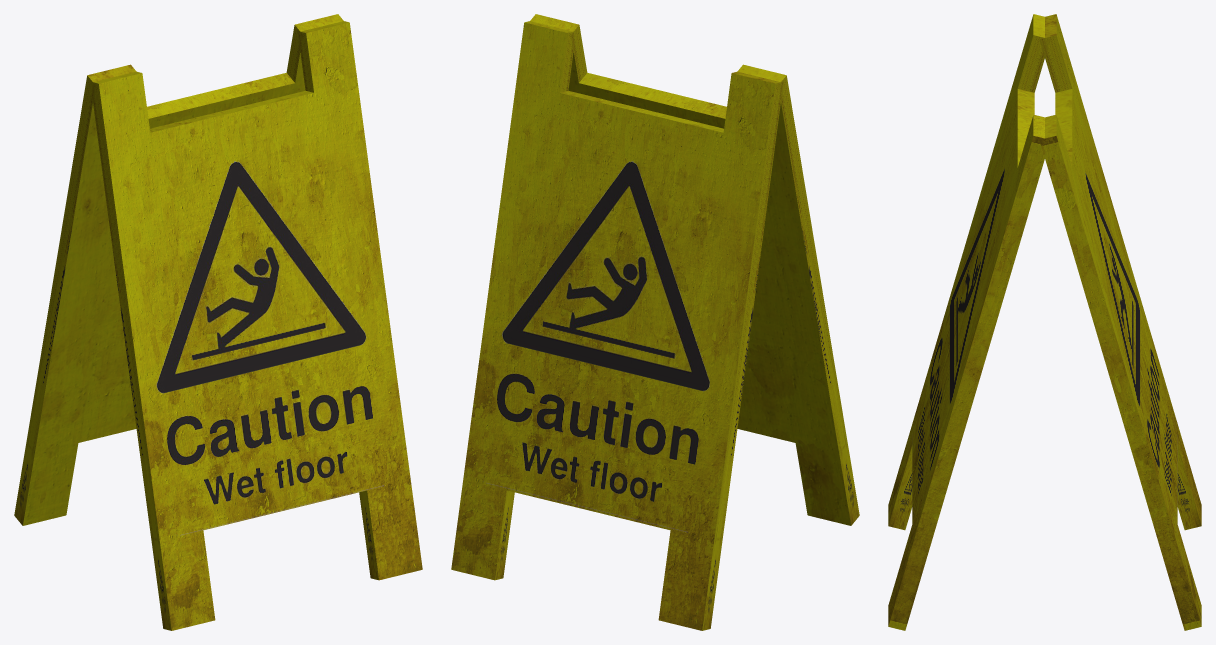
The model's file is Wet Floor Sign.FBX.
3 views of the same model, side by side, from view 1: azimuth 30°, elevation 25°; view 2: azimuth 150°, elevation 25°; view 3: azimuth 270°, elevation 25° (orthographic).
Parts seen in each view (by area): view 1: Wet Floor sign; view 2: Wet Floor sign; view 3: Wet Floor sign.
Boxes of the visible parts, left/top/right/bottom form: Wet Floor sign: left=14, top=14, right=422, bottom=630; Wet Floor sign: left=451, top=14, right=859, bottom=630; Wet Floor sign: left=888, top=14, right=1201, bottom=630.
Size of the model in its own units: 0.3086 by 0.5852 by 0.3356.
